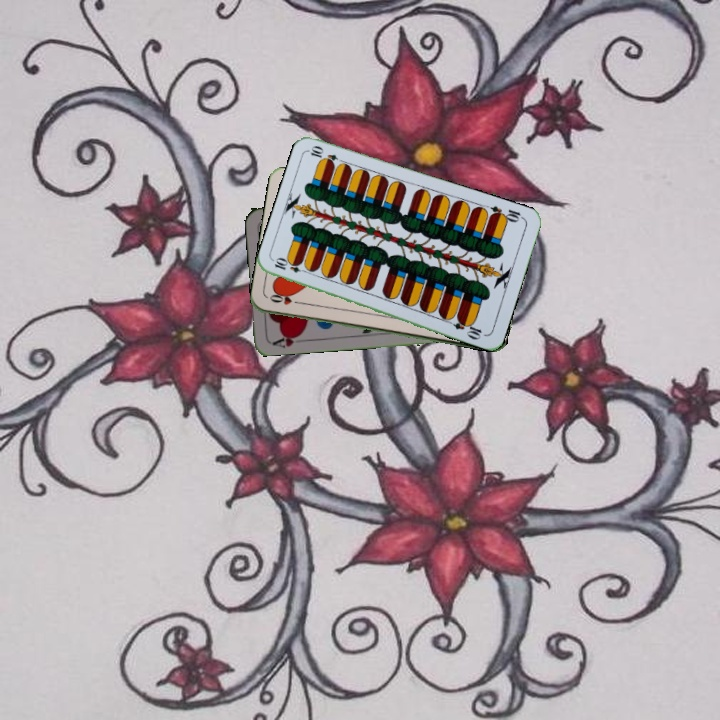E10: (486, 202, 526, 225), (271, 255, 311, 276)
HA: (268, 329, 305, 350)
HO: (265, 291, 305, 307)
